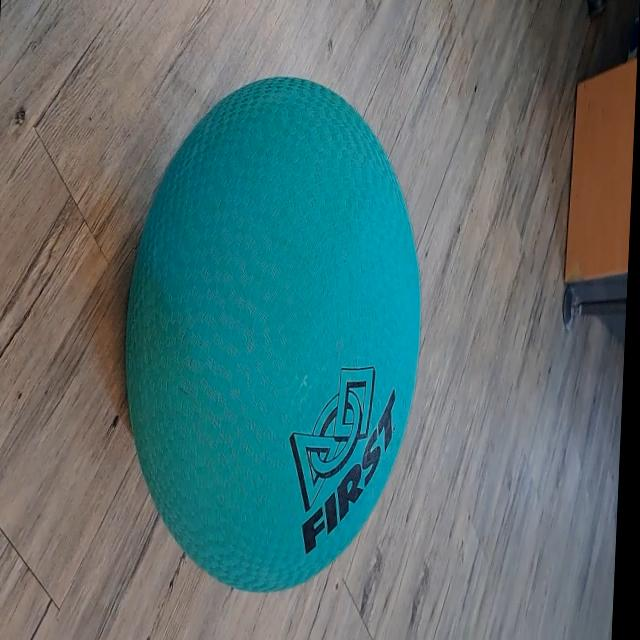ALGAE: (112, 73, 433, 594)
